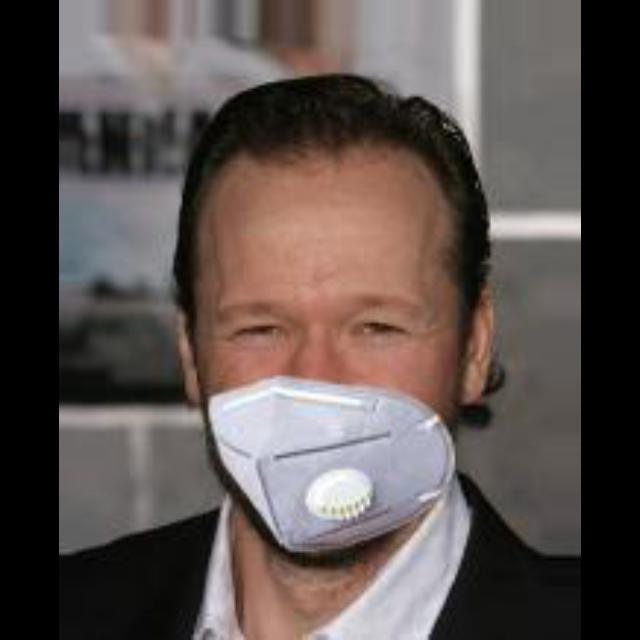suspicion: (187, 100, 509, 548)
